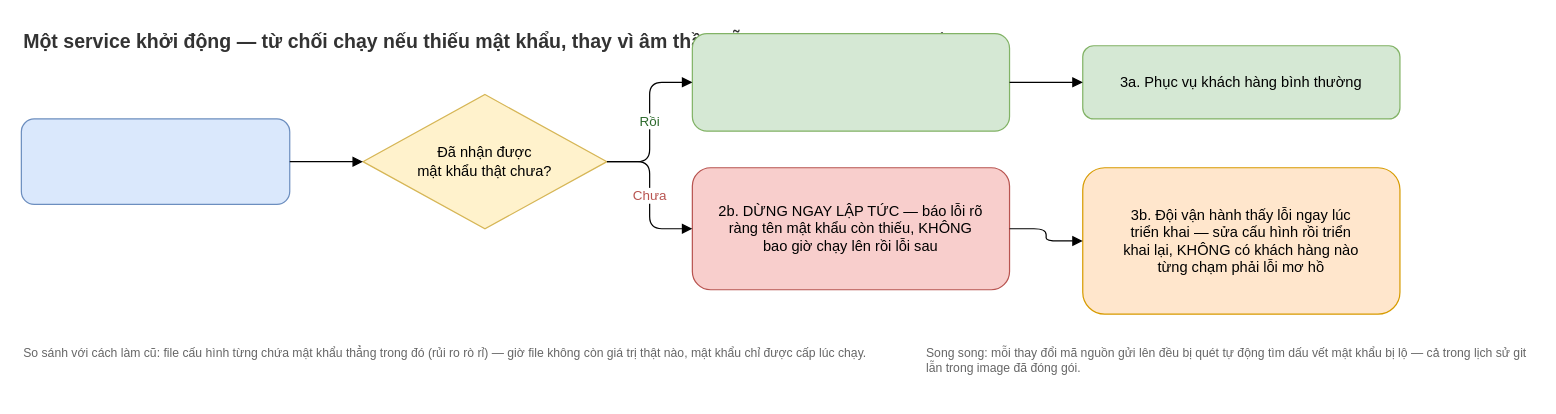
Some shapes in this 1556 by 414 pixel diagram are drawn without their labels. Each missing label, with the centre of its shape:
1. Bộ phận bắt đầu khởi động: the point at 155,161
2a. Khởi động thành công, kết nối cơ sở dữ liệu bình thường: the point at 850,81
